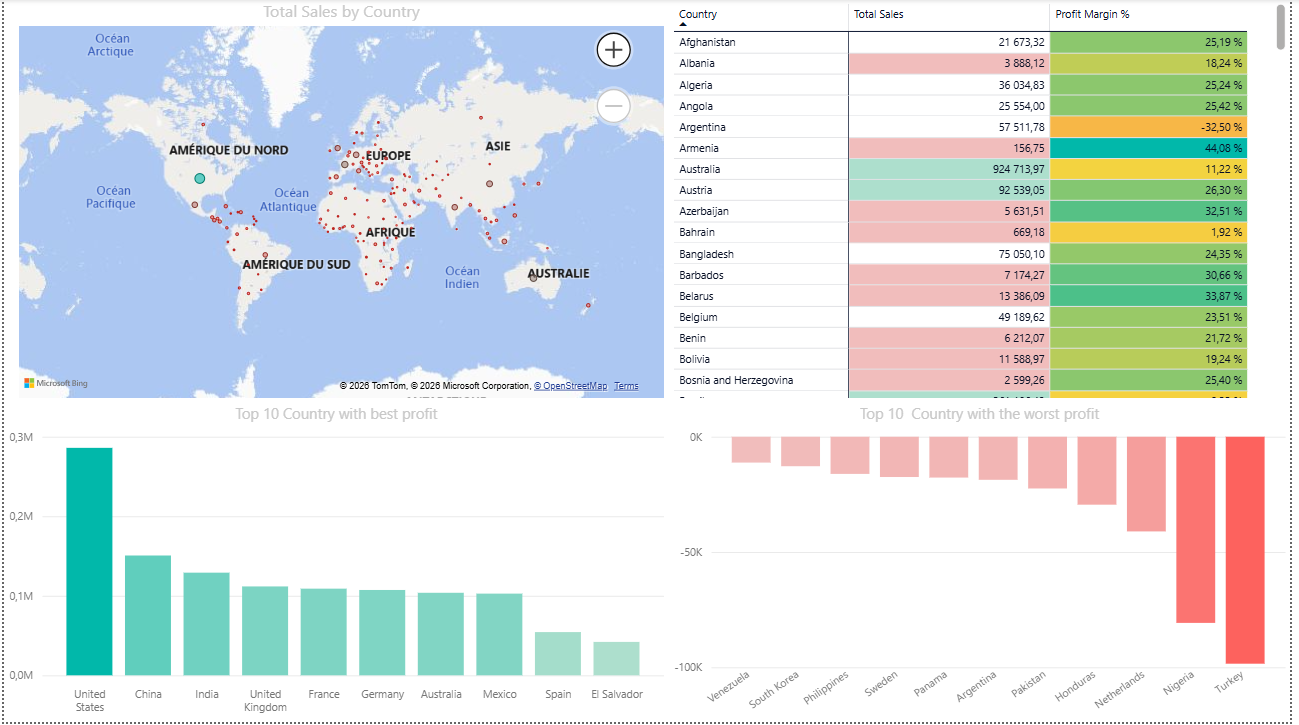

The dashboard page shown, as its layout file describes it:
{"tool":"powerbi","page":{"name":"Geographic analysis","canvas":[1280,720],"ordinal":2},"visuals":[{"type":"map","title":"Total Sales by Country","fields":{"Category":["Geo_Dimension_Table.Country"],"Size":["DAX Measures.Total Sales"]},"box":[10,0,651.8,401.8],"z":0},{"type":"clusteredColumnChart","title":"Top 10  Country with the worst profit","fields":{"Category":["Geo_Dimension_Table.Country"],"Y":["DAX Measures.Total Profit"]},"box":[661.8,401.8,618.2,318.5],"z":1000},{"type":"pivotTable","fields":{"Values":["DAX Measures.Total Sales","DAX Measures.Profit Margin %"],"Rows":["Geo_Dimension_Table.Country"]},"box":[661.8,0,618.2,401.8],"z":2000},{"type":"clusteredColumnChart","title":"Top 10 Country with best profit","fields":{"Category":["Geo_Dimension_Table.Country"],"Y":["DAX Measures.Total Profit"]},"box":[0,401.8,661.8,318.5],"z":3000}]}

Visuals, with their boxes in screenshot pixels (x1, y1, x2, y2), scaled from the page's 1280x720 canvas onto the 1299x725 screenshot:
"Total Sales by Country" map: 10:0:672:405
"Top 10  Country with the worst profit" clusteredColumnChart: 672:405:1298:724
pivotTable - DAX Measures.Total Sales x DAX Measures.Profit Margin %: 672:0:1298:405
"Top 10 Country with best profit" clusteredColumnChart: 0:405:672:724
